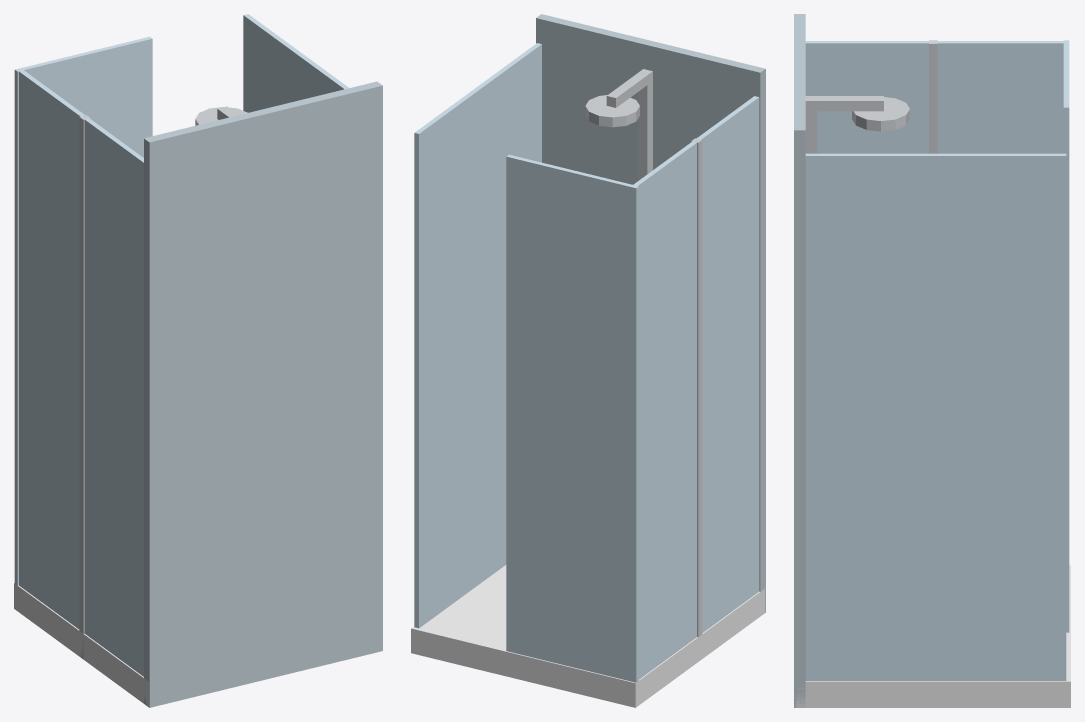
Rendered from shower.glb.
The picture shows the model from 3 angles, left to right: view 1: azimuth 30°, elevation 25°; view 2: azimuth 150°, elevation 25°; view 3: azimuth 270°, elevation 25°; orthographic projection. The views are drawn at different scales.
Parts seen in each view (by area): view 1: shower; view 2: shower; view 3: shower.
Boxes of the visible parts, left/top/right/bottom form: shower: left=14, top=14, right=382, bottom=707; shower: left=411, top=14, right=765, bottom=707; shower: left=794, top=14, right=1070, bottom=707.
Size of the model in its own units: 0.95 by 2.2 by 0.955.
